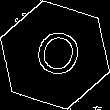O_S: (26, 24, 84, 86)
